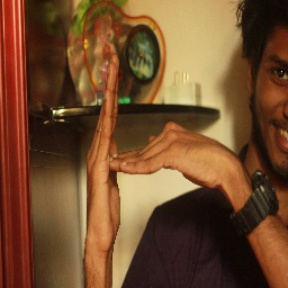Z: (77, 48, 224, 244)
